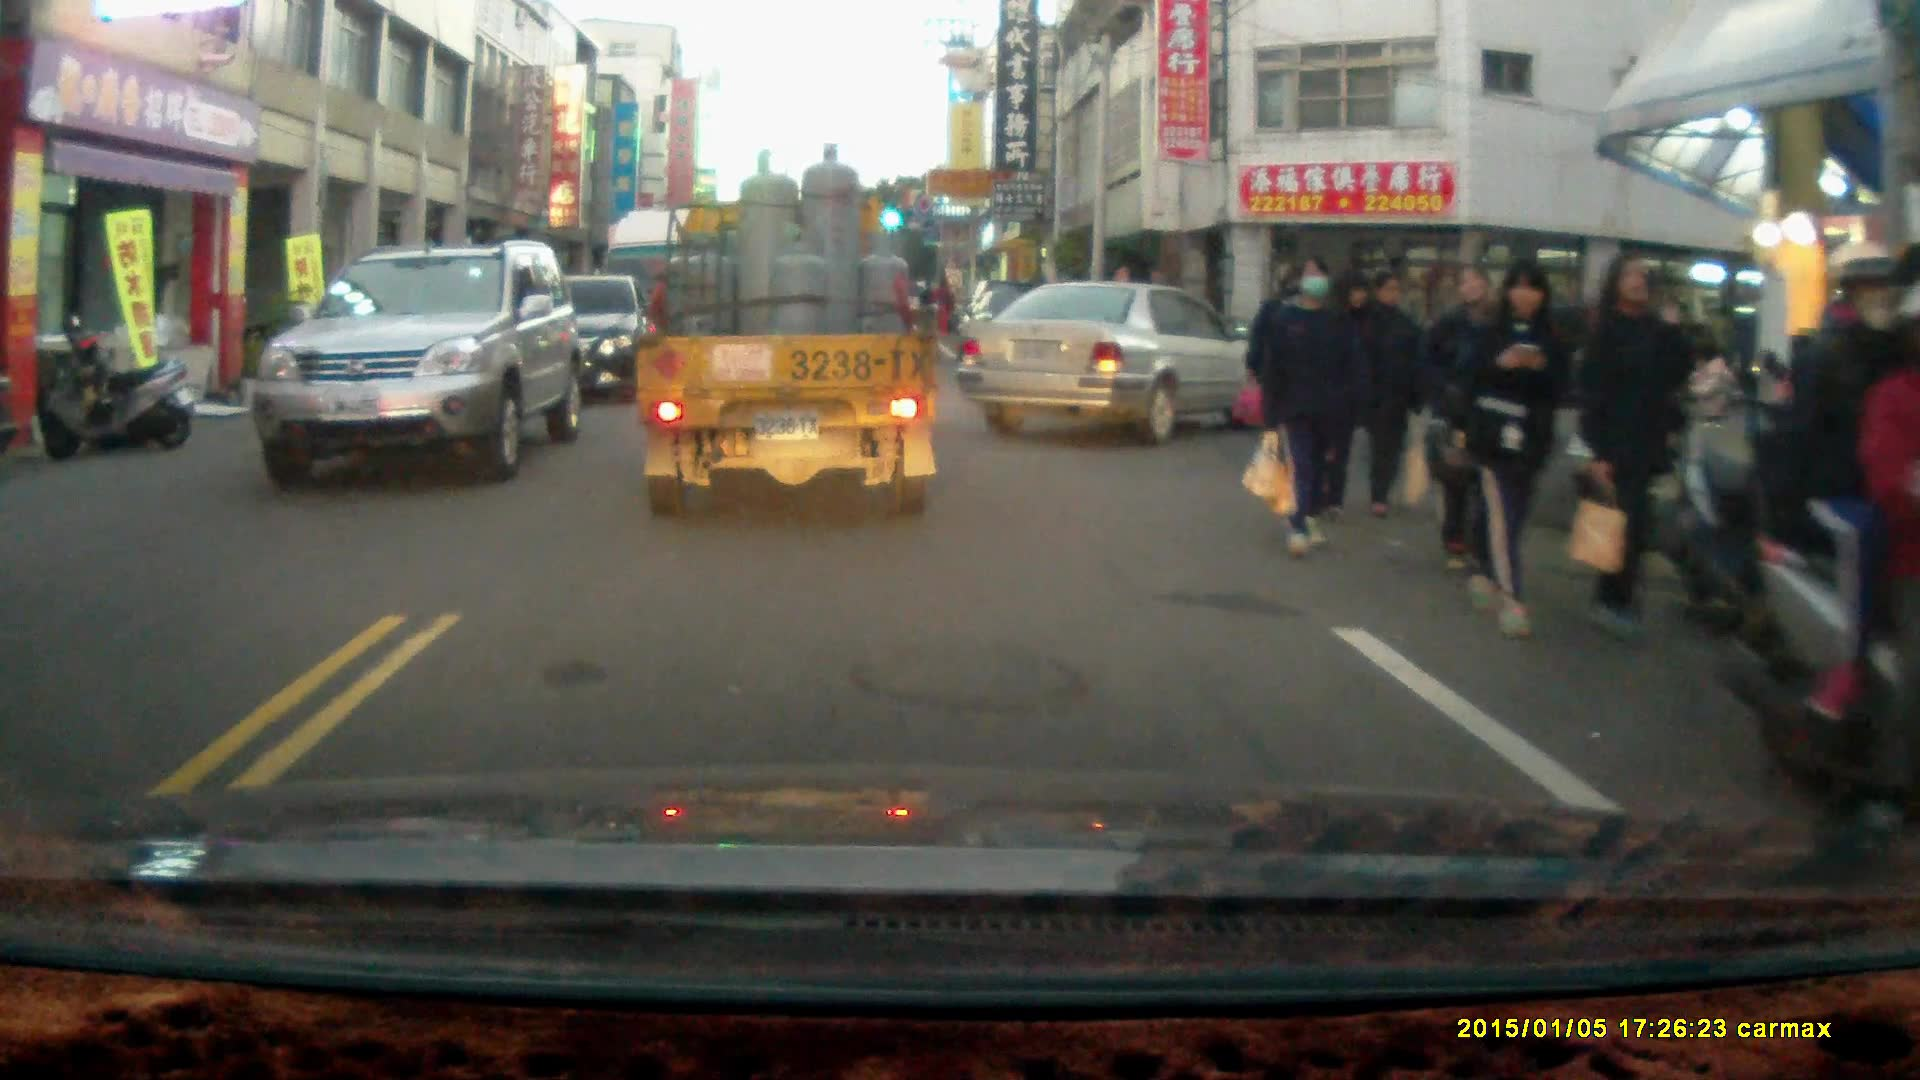pedestrian: (1576, 252, 1692, 647), (1458, 257, 1570, 643), (1418, 261, 1505, 581), (1260, 258, 1351, 562), (1349, 267, 1428, 522)
rider: (1730, 241, 1920, 829)
vehicle: (636, 145, 954, 524), (254, 243, 583, 492), (955, 279, 1294, 445), (471, 270, 661, 410)
